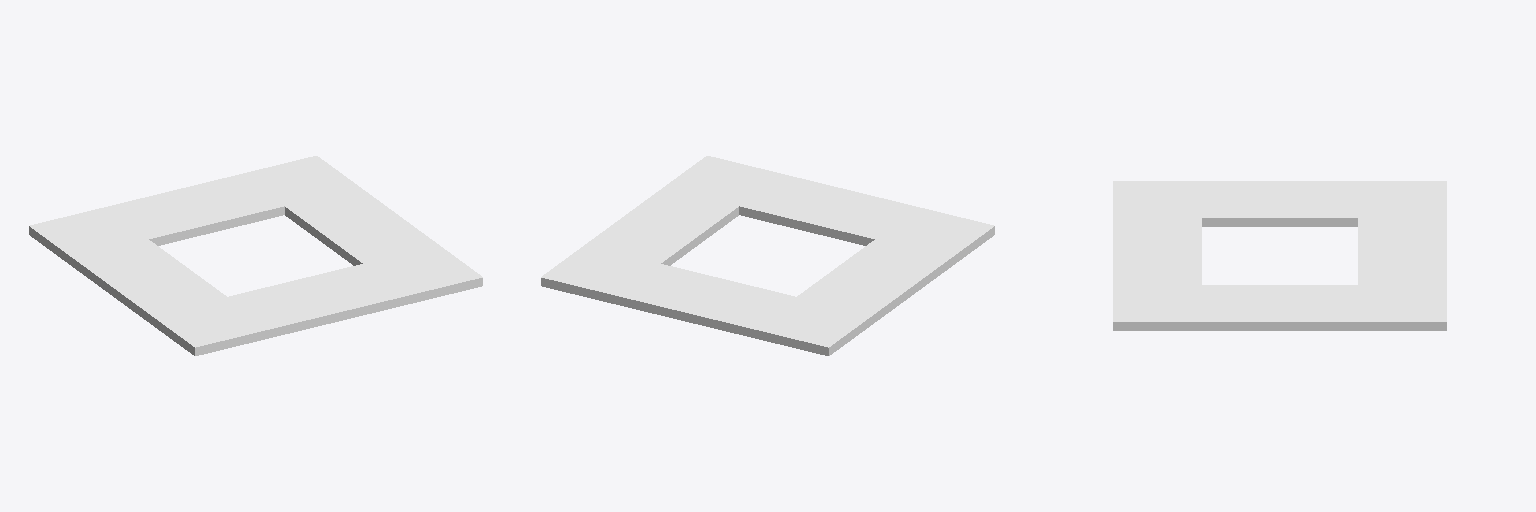
File: DesertSide.obj
3 views of the same model, side by side, from view 1: azimuth 30°, elevation 25°; view 2: azimuth 150°, elevation 25°; view 3: azimuth 270°, elevation 25° (orthographic).
Visible parts, largest first — view 1: DesertSide; view 2: DesertSide; view 3: DesertSide.
Part boxes in pixels (bbox=[...]): DesertSide: bbox=[29, 156, 482, 355]; DesertSide: bbox=[541, 156, 994, 355]; DesertSide: bbox=[1113, 181, 1446, 330].
Bounding box in the file's own units: 68 × 2 × 68.